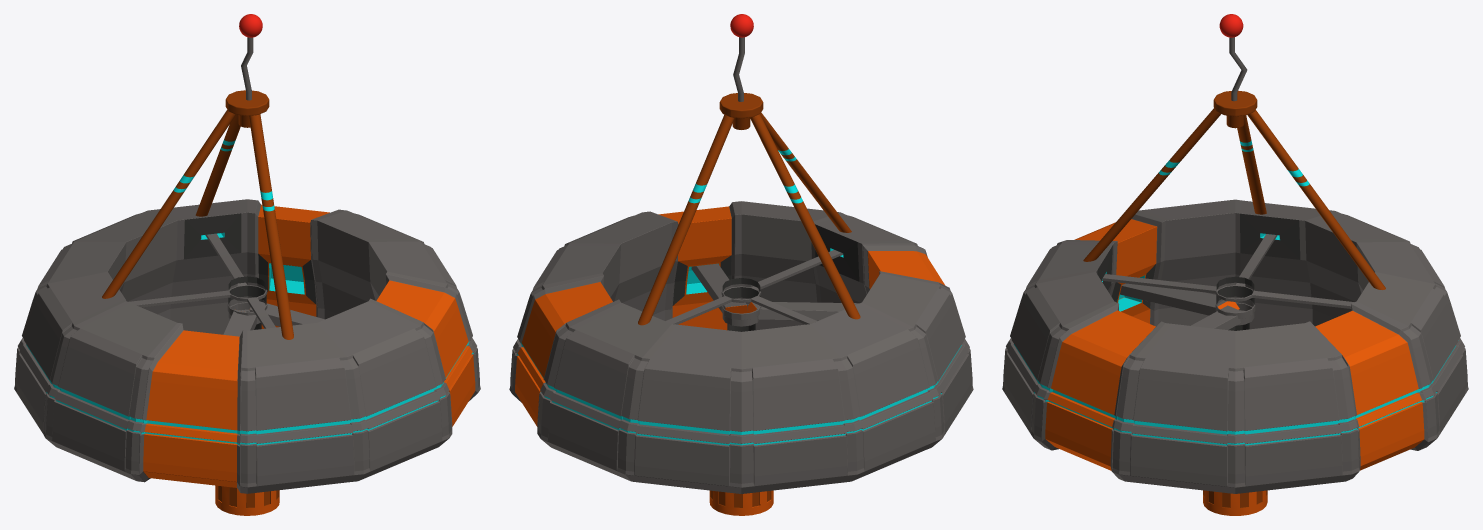
File: Dron_Final.fbx
The picture shows the model from 3 angles, left to right: view 1: azimuth 30°, elevation 25°; view 2: azimuth 150°, elevation 25°; view 3: azimuth 270°, elevation 25°; orthographic projection.
Visible parts, largest first — view 1: Dron, Helices, Soporte 1, Soporte 2, Linterna, Soporte 3, Mini base; view 2: Dron, Helices, Soporte 3, Soporte 2, Linterna, Soporte 1, Mini base; view 3: Dron, Helices, Soporte 3, Soporte 1, Linterna, Soporte 2, Mini base.
Boxes of the visible parts, x1=… form: Dron: x1=14, y1=199, x2=480, y2=493; Helices: x1=129, y1=233, x2=275, y2=329; Soporte 1: x1=249, y1=114, x2=293, y2=339; Soporte 2: x1=102, y1=109, x2=235, y2=298; Linterna: x1=215, y1=485, x2=279, y2=515; Soporte 3: x1=195, y1=115, x2=240, y2=216; Mini base: x1=225, y1=90, x2=269, y2=127; Dron: x1=509, y1=201, x2=973, y2=493; Helices: x1=665, y1=250, x2=842, y2=331; Soporte 3: x1=638, y1=115, x2=734, y2=325; Soporte 2: x1=750, y1=114, x2=860, y2=319; Linterna: x1=709, y1=490, x2=773, y2=515; Soporte 1: x1=760, y1=112, x2=851, y2=232; Mini base: x1=719, y1=93, x2=763, y2=129; Dron: x1=1002, y1=199, x2=1468, y2=493; Helices: x1=1102, y1=234, x2=1354, y2=330; Soporte 3: x1=1247, y1=110, x2=1385, y2=289; Soporte 1: x1=1083, y1=108, x2=1220, y2=261; Linterna: x1=1203, y1=490, x2=1267, y2=515; Soporte 2: x1=1237, y1=115, x2=1266, y2=214; Mini base: x1=1213, y1=90, x2=1257, y2=128.
Bounding box in the file's own units: 232 × 268 × 232.
